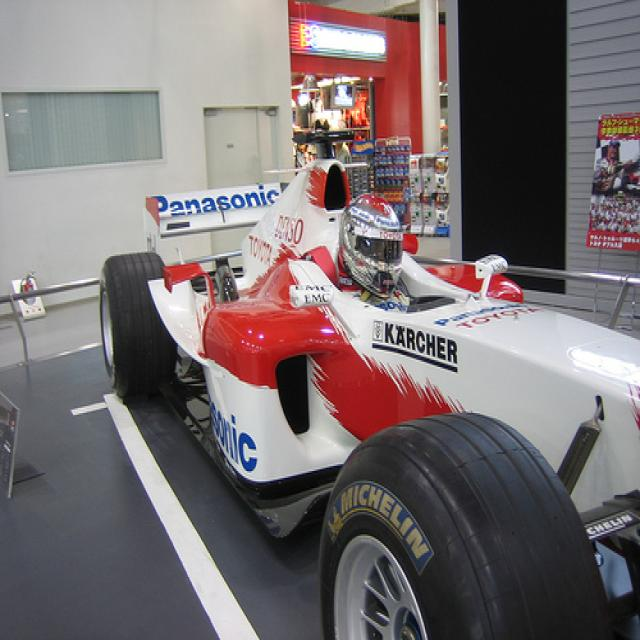car: (98, 155, 640, 639)
